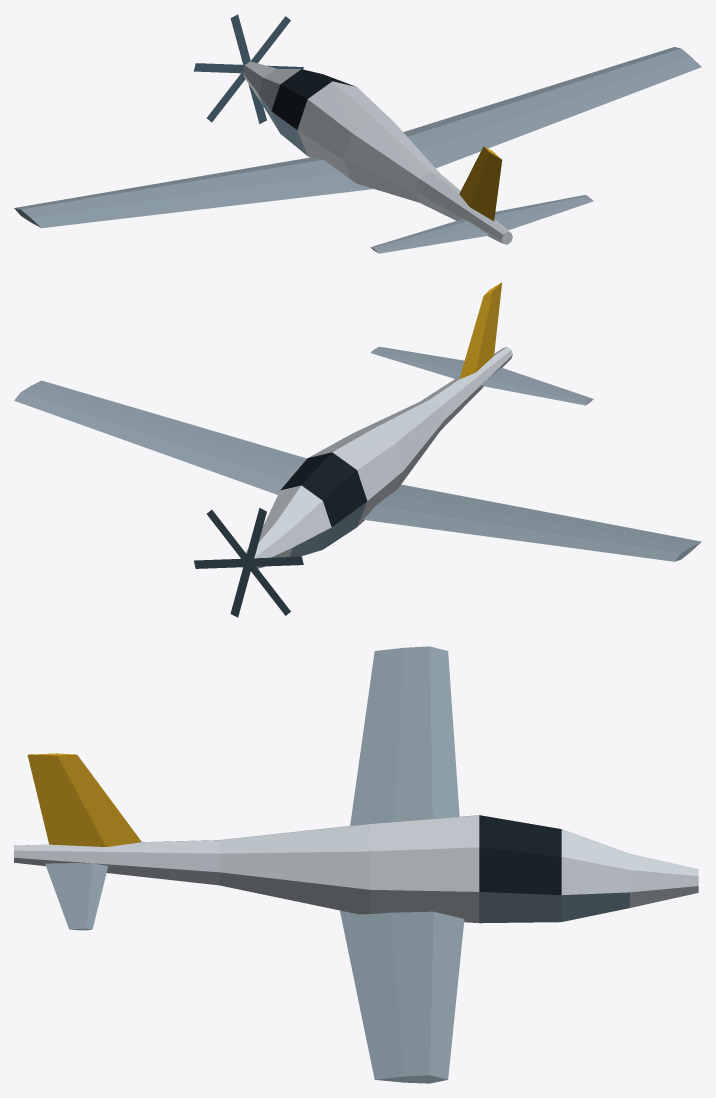
3 renders of one model, top to bottom at view 1: azimuth 30°, elevation 25°; view 2: azimuth 150°, elevation 25°; view 3: azimuth 270°, elevation 25°, orthographic. The views are drawn at different scales.
Visible parts, largest first — view 1: lod0; view 2: lod0; view 3: lod0.
Part boxes in pixels (x1,y1,x2,y2): lod0: (14,14,701,253); lod0: (14,282,701,617); lod0: (14,646,698,1083).
Size of what is drawn, in the model's own units: 1.47 by 0.3258 by 1.
